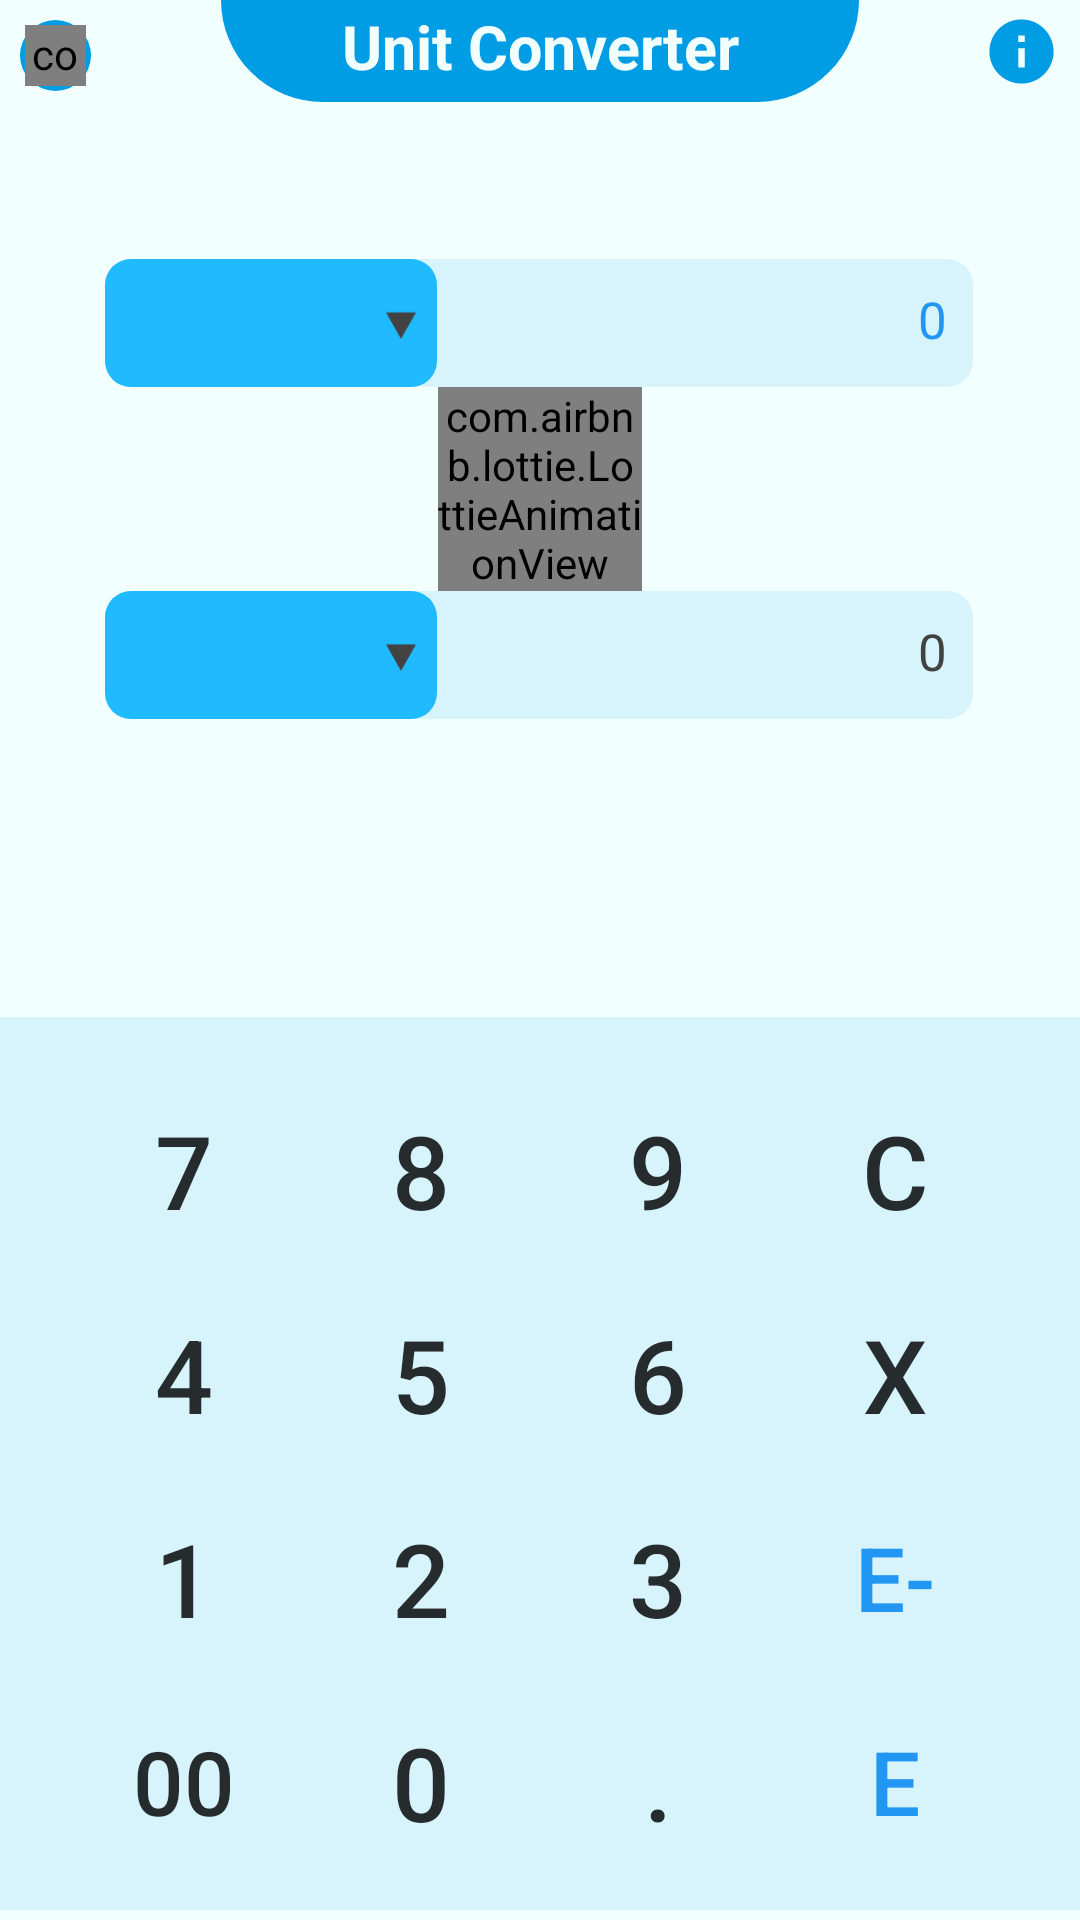

Where to tap for icons on this 1080x1920 app screen, as point (x, y):
info: point (1021, 51)
